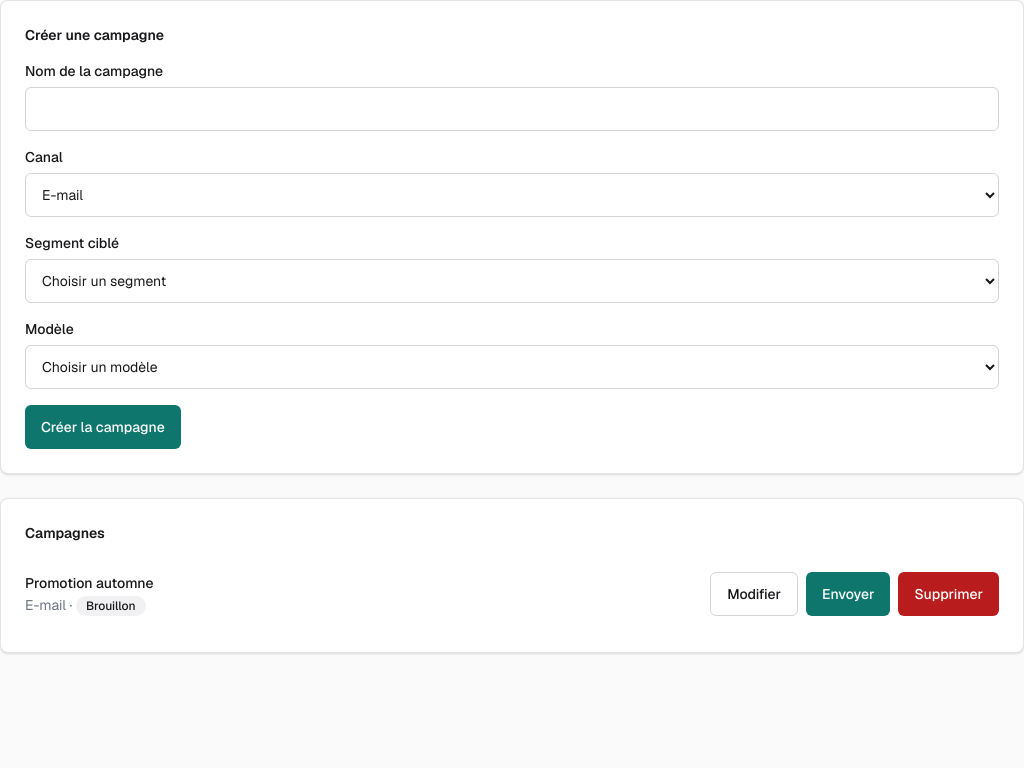
Scenario: CampaignsPage › envoie une campagne en brouillon
Expected: the link "Promotion automne" is shown, [25,574,154,592]
Click the button "Envoyer" at (848,594), box [806,572,890,616]
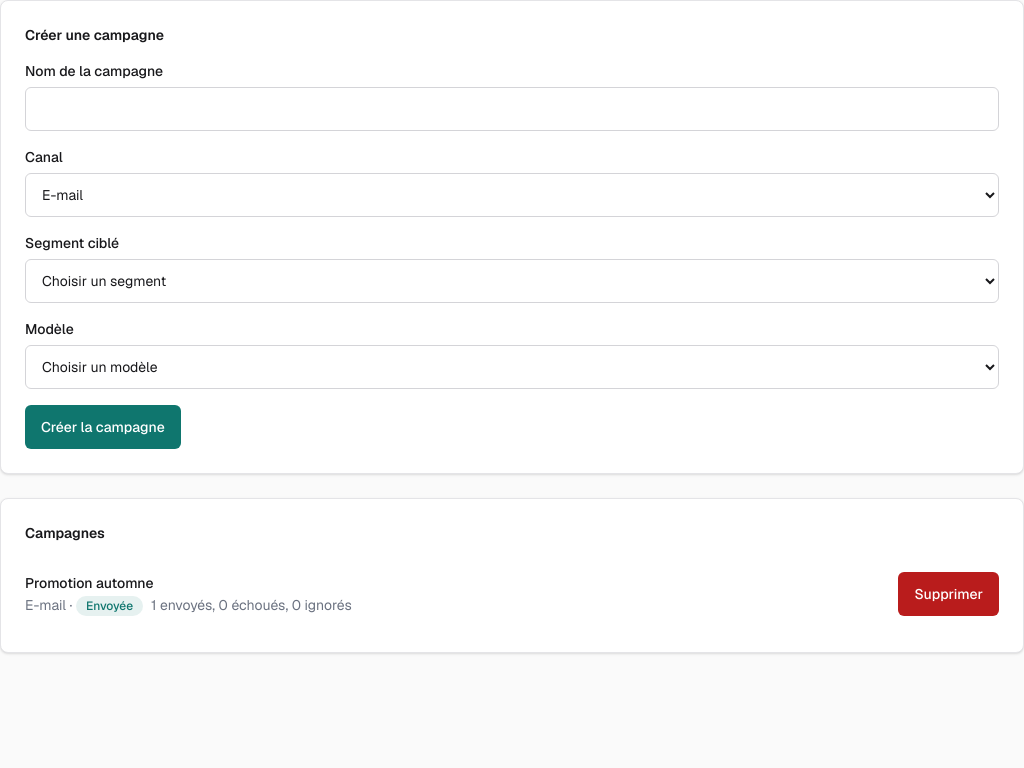
Now the text "Envoyée" is shown, box [76,596,143,616]
Now the button "Envoyer" is gone
